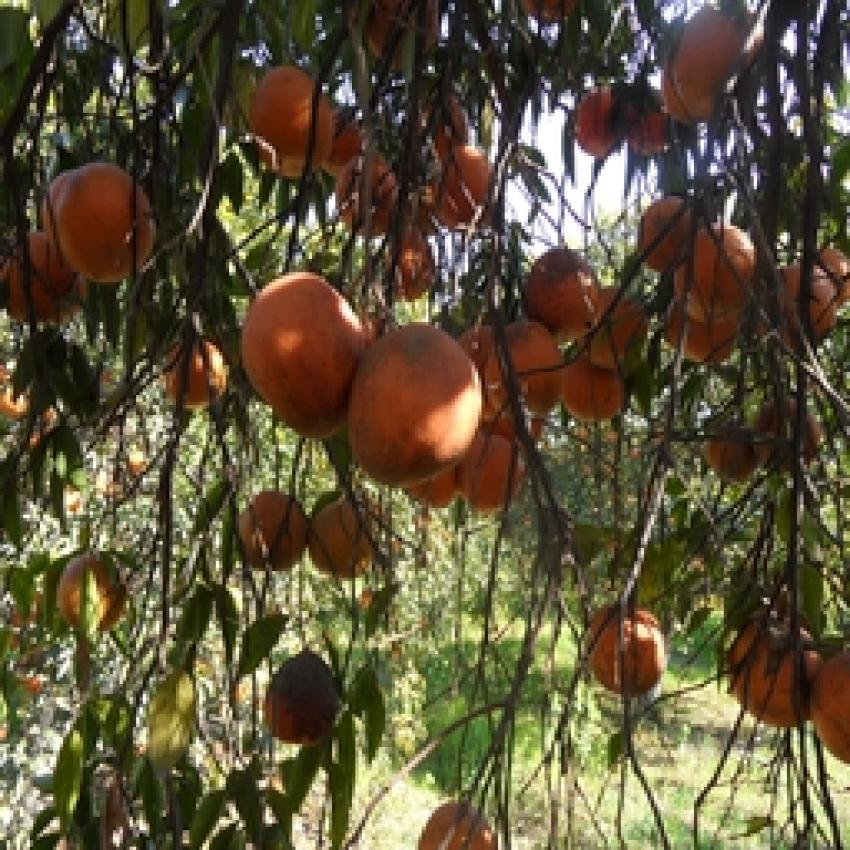Mal estado: (341, 319, 493, 485), (236, 268, 369, 439)
